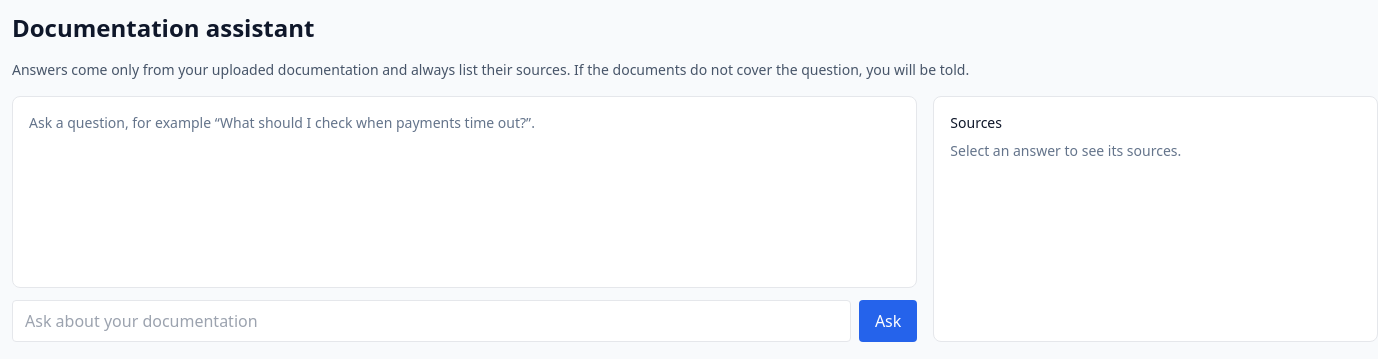
AssistantPage › shows the answer and a source panel with real document, page and chunk
The image size is (1378, 359).
In the field named "Question": (431, 321) [12,300,851,342], type "why do payments time out?"
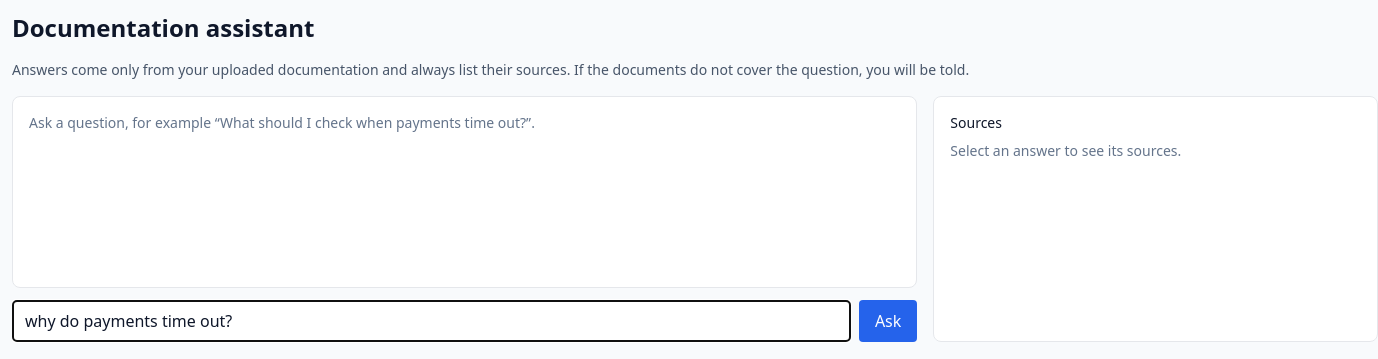
Click the button "Ask": (888, 321) [859,300,917,342]
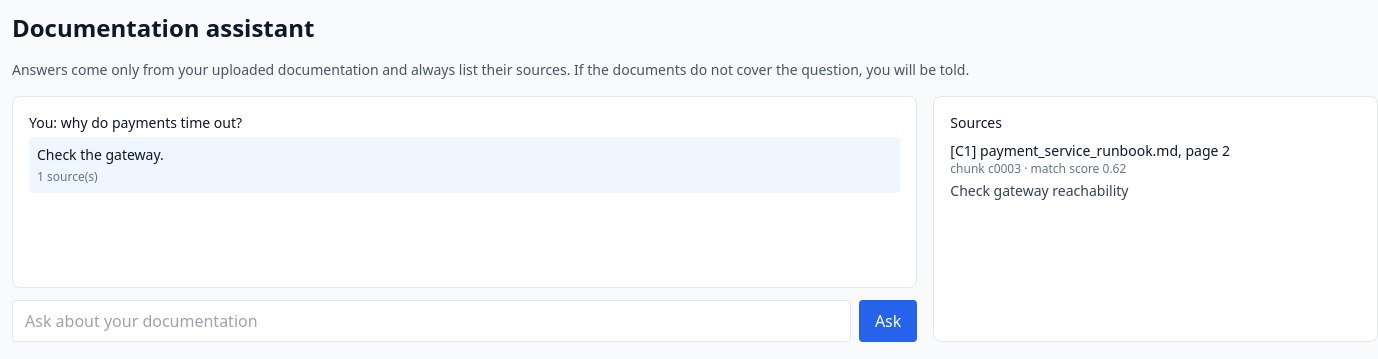
Check: the text "Check the gateway." is shown, box [37,145,164,164]
Check: the element labelled "Sources" shows "payment_service_runbook.md, page 2", box [933,96,1377,342]
Check: the element labelled "Sources" shows "chunk c0003", box [933,96,1377,342]
